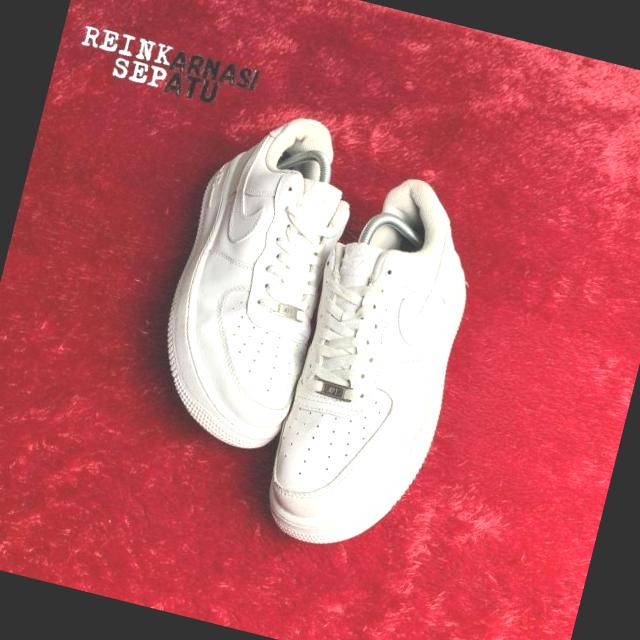nike_fake_airforce: (256, 166, 503, 571), (140, 93, 375, 457)
